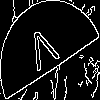V: (25, 25, 64, 81)
